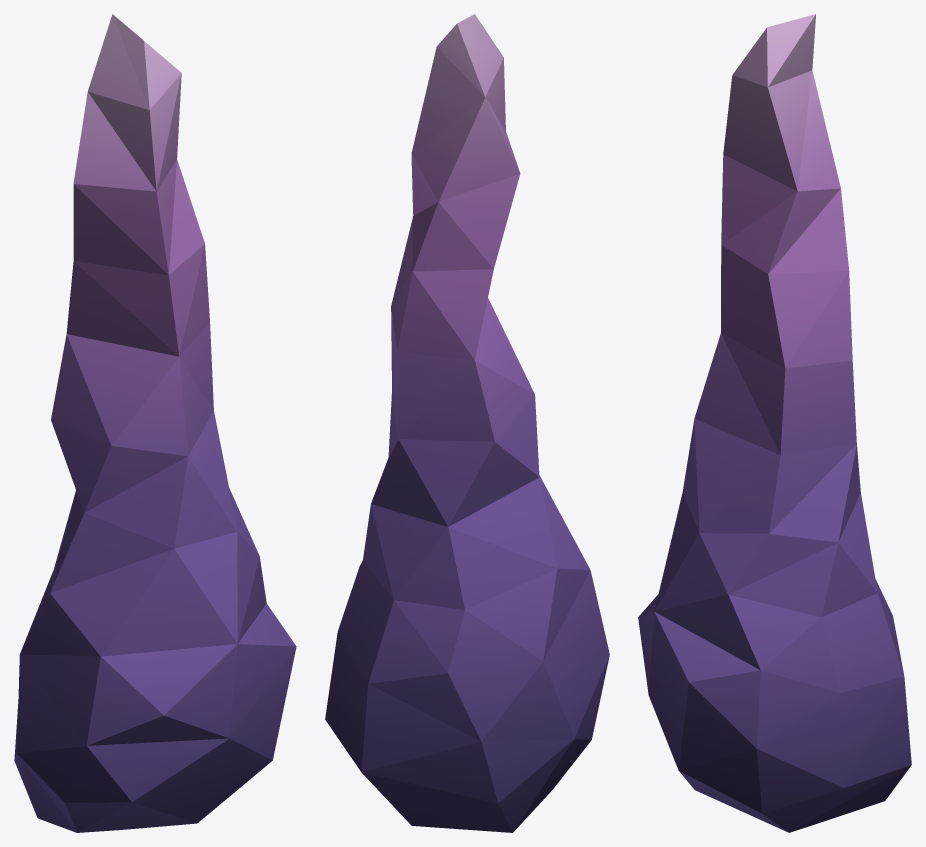
The picture shows the model from 3 angles, left to right: view 1: azimuth 30°, elevation 25°; view 2: azimuth 150°, elevation 25°; view 3: azimuth 270°, elevation 25°; orthographic projection.
Parts seen in each view (by area): view 1: base_01; view 2: base_01; view 3: base_01.
Boxes of the visible parts, x1=… form: base_01: x1=14, y1=14, x2=296, y2=832; base_01: x1=325, y1=14, x2=609, y2=832; base_01: x1=638, y1=14, x2=911, y2=832.
Size of the model in its own units: 1.07 by 3.34 by 1.03.
